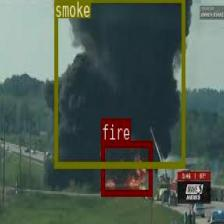fire: (100, 140, 152, 195)
smoke: (54, 0, 184, 166)
